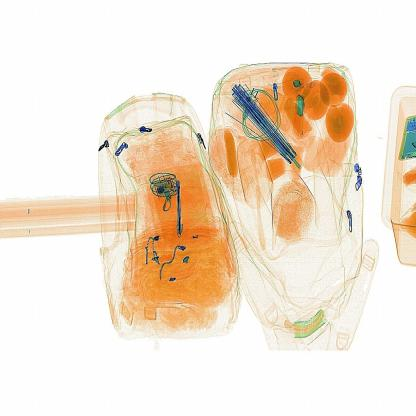knife: (167, 166, 193, 245)
